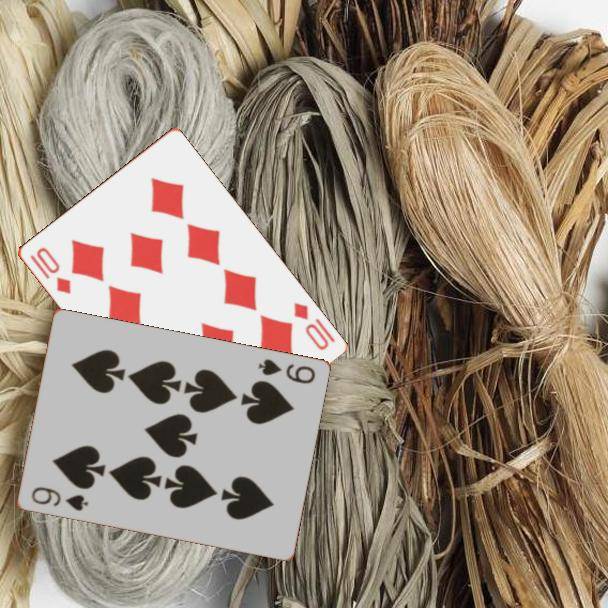d10: (290, 299, 338, 353), (26, 243, 73, 297)
s09: (27, 483, 91, 514), (254, 356, 318, 387)
